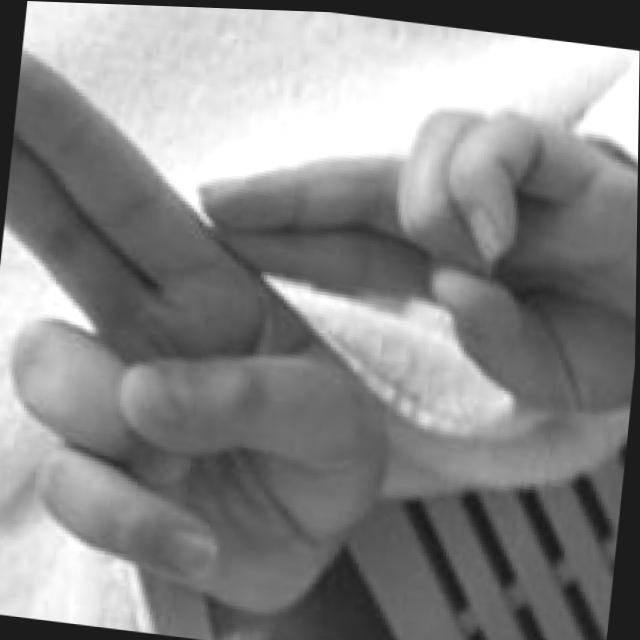K: (0, 36, 639, 640)
